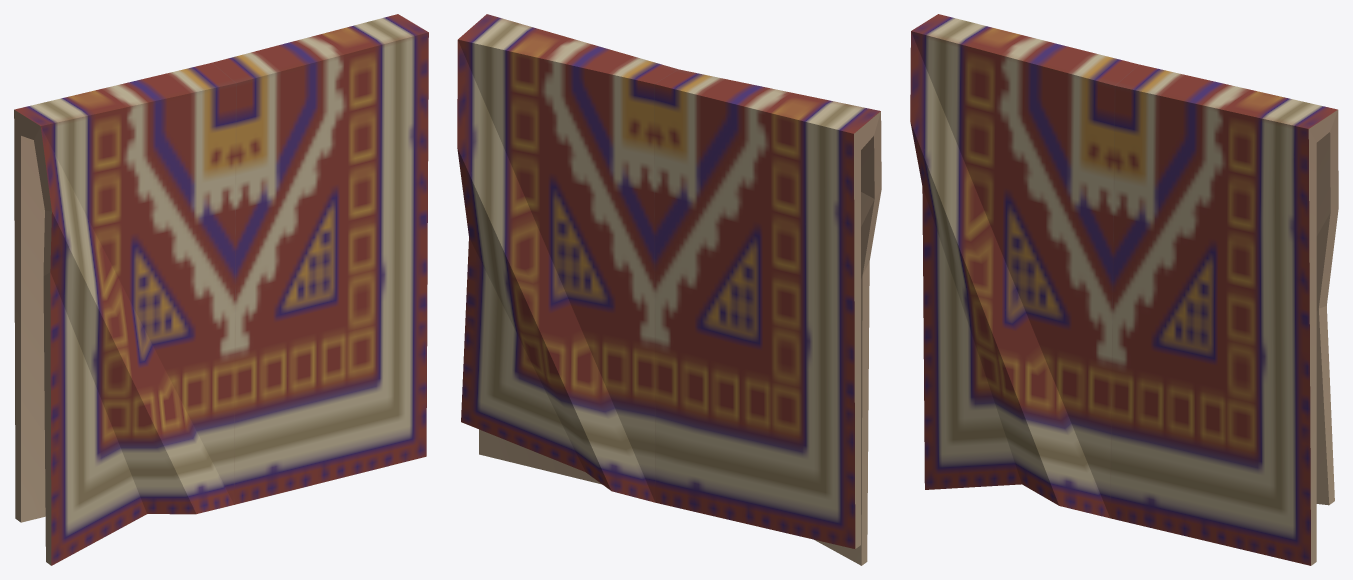
The model's file is SM_Prop_Rug_Hanging_03.fbx.
3 views of the same model, side by side, from view 1: azimuth 30°, elevation 25°; view 2: azimuth 150°, elevation 25°; view 3: azimuth 330°, elevation 25° (orthographic). The views are drawn at different scales.
Visible parts, largest first — view 1: SM_Prop_Rug_Hanging_03; view 2: SM_Prop_Rug_Hanging_03; view 3: SM_Prop_Rug_Hanging_03.
Boxes of the visible parts, bbox=[...] form: SM_Prop_Rug_Hanging_03: bbox=[14, 14, 428, 565]; SM_Prop_Rug_Hanging_03: bbox=[457, 14, 881, 565]; SM_Prop_Rug_Hanging_03: bbox=[910, 14, 1338, 565].
Bounding box in the file's own units: 91.25 × 99.93 × 16.28.
